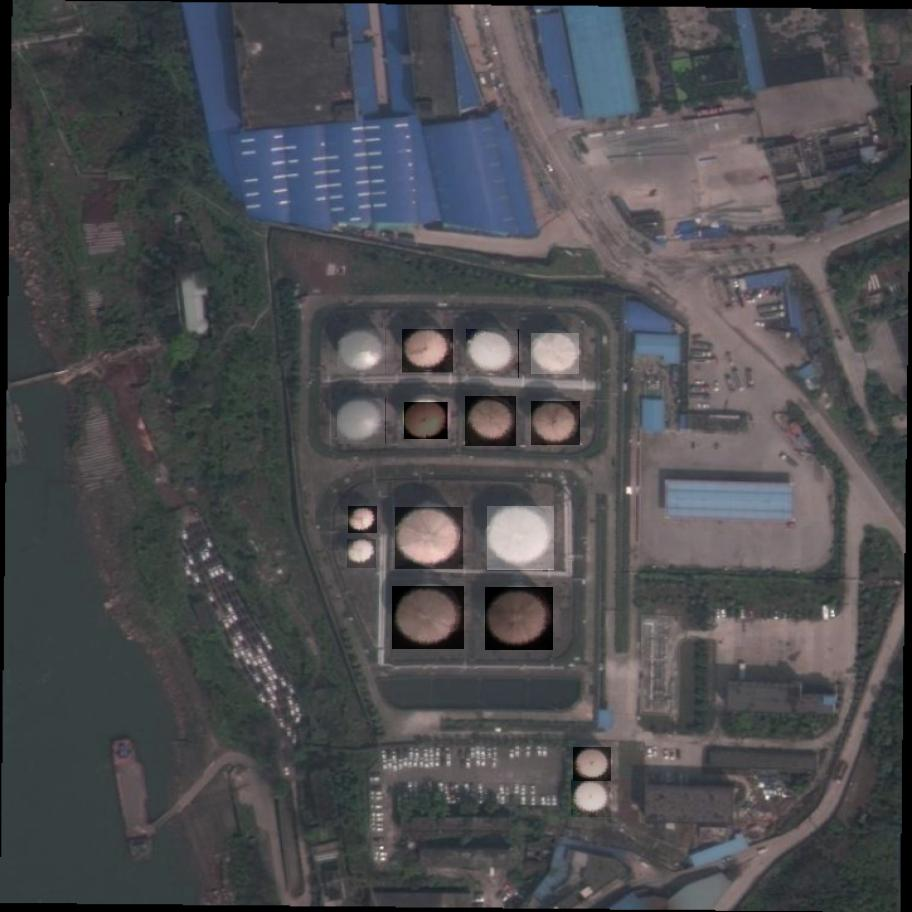storage-tank: (393, 585, 466, 650), (485, 587, 555, 652), (487, 507, 555, 573), (395, 507, 465, 570), (466, 329, 520, 379), (465, 397, 517, 447), (337, 328, 387, 375), (403, 329, 454, 375), (337, 398, 388, 444), (530, 401, 581, 446), (531, 333, 580, 376), (571, 780, 613, 819), (404, 402, 447, 439), (573, 747, 612, 782), (347, 539, 376, 569), (348, 507, 378, 534)
